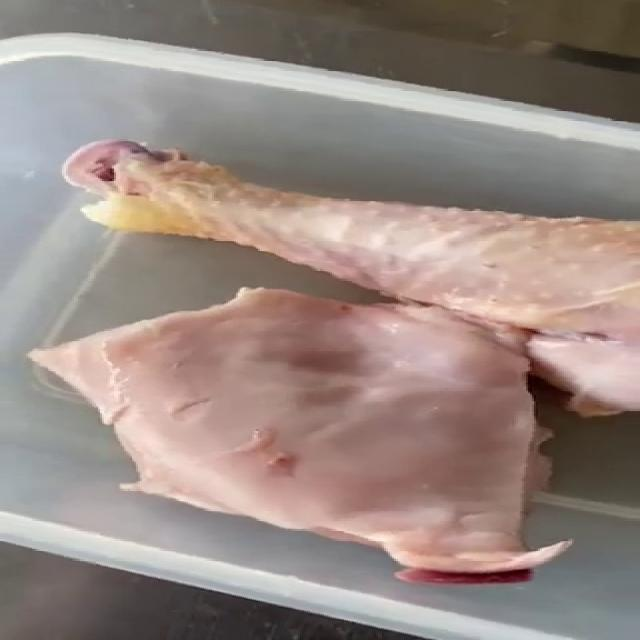chicken: (61, 131, 640, 588)
